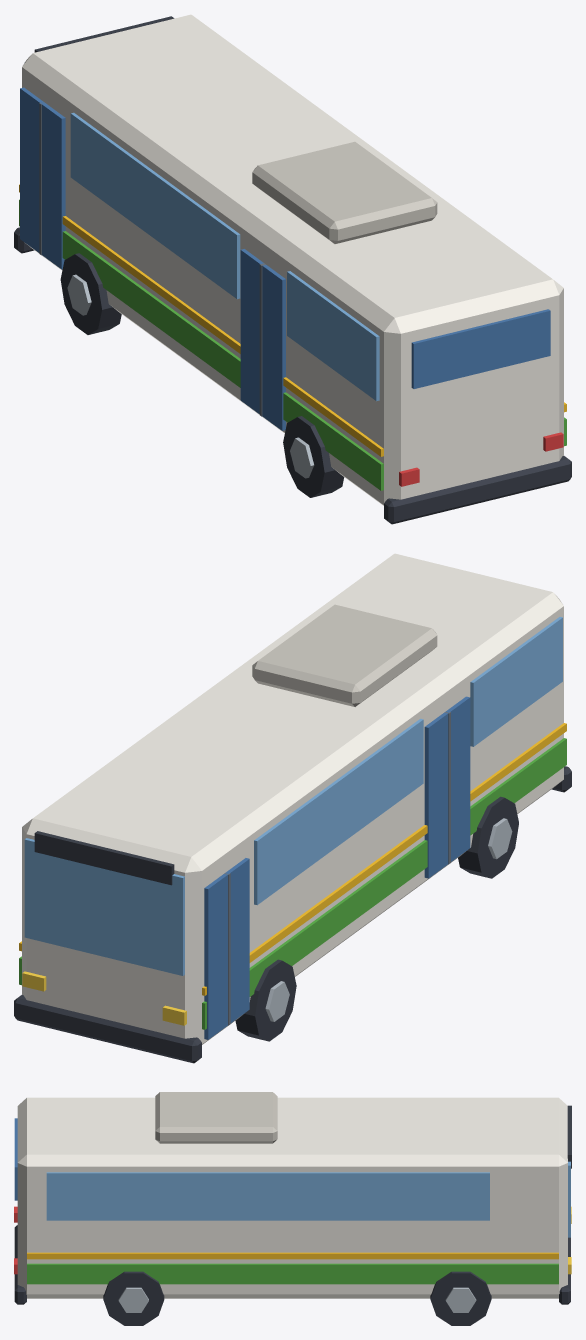
Rendered from veiculos-onibus.glb.
The picture shows the model from 3 angles, top to bottom: view 1: azimuth 30°, elevation 25°; view 2: azimuth 150°, elevation 25°; view 3: azimuth 270°, elevation 25°; orthographic projection. The views are drawn at different scales.
Parts seen in each view (by area): view 1: corpo; view 2: corpo; view 3: corpo.
Part boxes in pixels (<box>): corpo: <box>14,14,571,524</box>; corpo: <box>14,553,571,1063</box>; corpo: <box>14,1092,571,1325</box>.
Bounding box in the file's own units: 0.56 × 0.6551 × 1.83.
